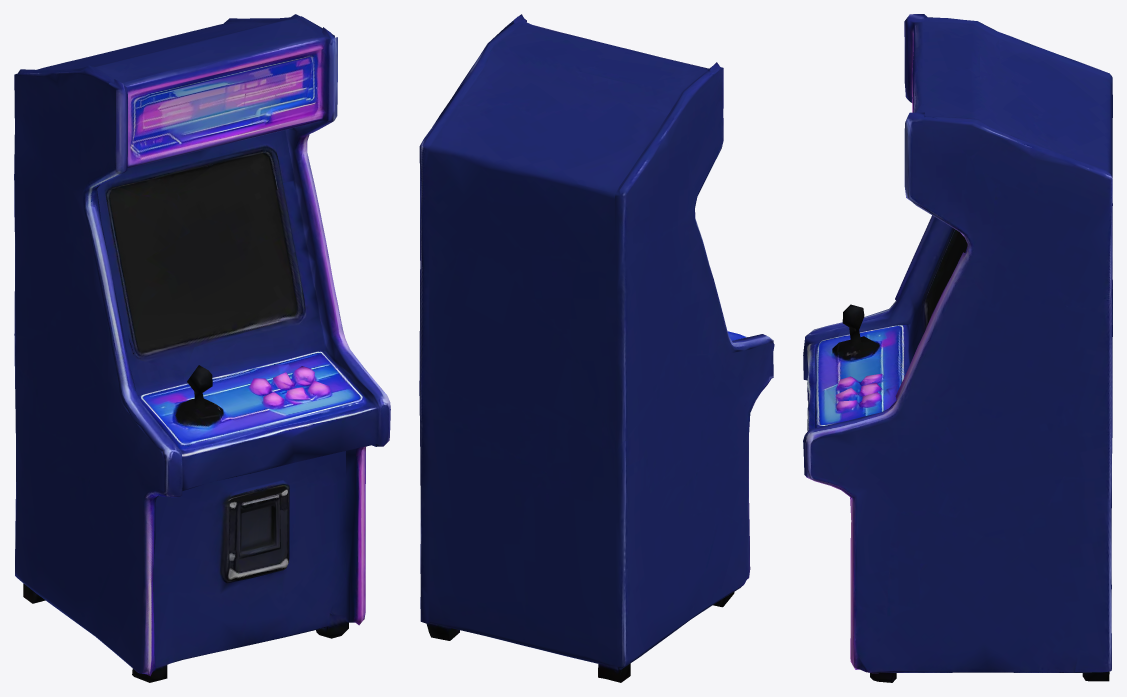
3 views of the same model, side by side, from view 1: azimuth 30°, elevation 25°; view 2: azimuth 150°, elevation 25°; view 3: azimuth 270°, elevation 25° (orthographic). The views are drawn at different scales.
Parts seen in each view (by area): view 1: tripo_node_149d09b4-27b8-451e-b20a-c644dd62eced; view 2: tripo_node_149d09b4-27b8-451e-b20a-c644dd62eced; view 3: tripo_node_149d09b4-27b8-451e-b20a-c644dd62eced.
Part boxes in pixels (x1,y1,x2,y2): tripo_node_149d09b4-27b8-451e-b20a-c644dd62eced: [14, 14, 390, 682]; tripo_node_149d09b4-27b8-451e-b20a-c644dd62eced: [419, 14, 774, 682]; tripo_node_149d09b4-27b8-451e-b20a-c644dd62eced: [803, 14, 1112, 682].
Bounding box in the file's own units: 0.7648 × 1.9 × 0.9327.
Materials: 1 (1 with a texture image).
